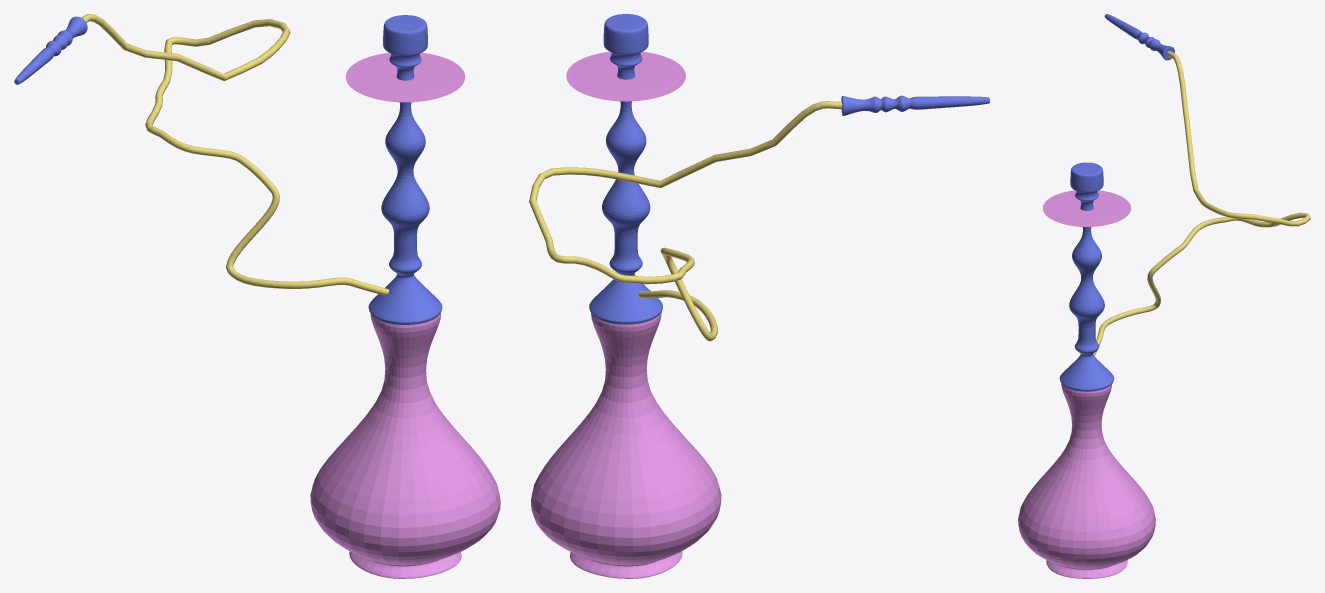
The model's file is hookah.fbx.
The picture shows the model from 3 angles, left to right: view 1: azimuth 30°, elevation 25°; view 2: azimuth 150°, elevation 25°; view 3: azimuth 270°, elevation 25°; orthographic projection. The views are drawn at different scales.
Parts seen in each view (by area): view 1: Cube.006, Helix, Cylinder.001; view 2: Cube.006, Helix, Cylinder.001; view 3: Cube.006, Helix, Cylinder.001.
Boxes of the visible parts, left/top/right/bottom form: Cube.006: left=310, top=15, right=500, bottom=578; Helix: left=82, top=14, right=388, bottom=295; Cylinder.001: left=14, top=16, right=87, bottom=84; Cube.006: left=531, top=14, right=721, bottom=578; Helix: left=529, top=101, right=842, bottom=341; Cylinder.001: left=841, top=95, right=989, bottom=115; Cube.006: left=1018, top=162, right=1155, bottom=578; Helix: left=1093, top=51, right=1310, bottom=355; Cylinder.001: left=1104, top=14, right=1174, bottom=60.
Size of the model in its own units: 714 by 842 by 535.
